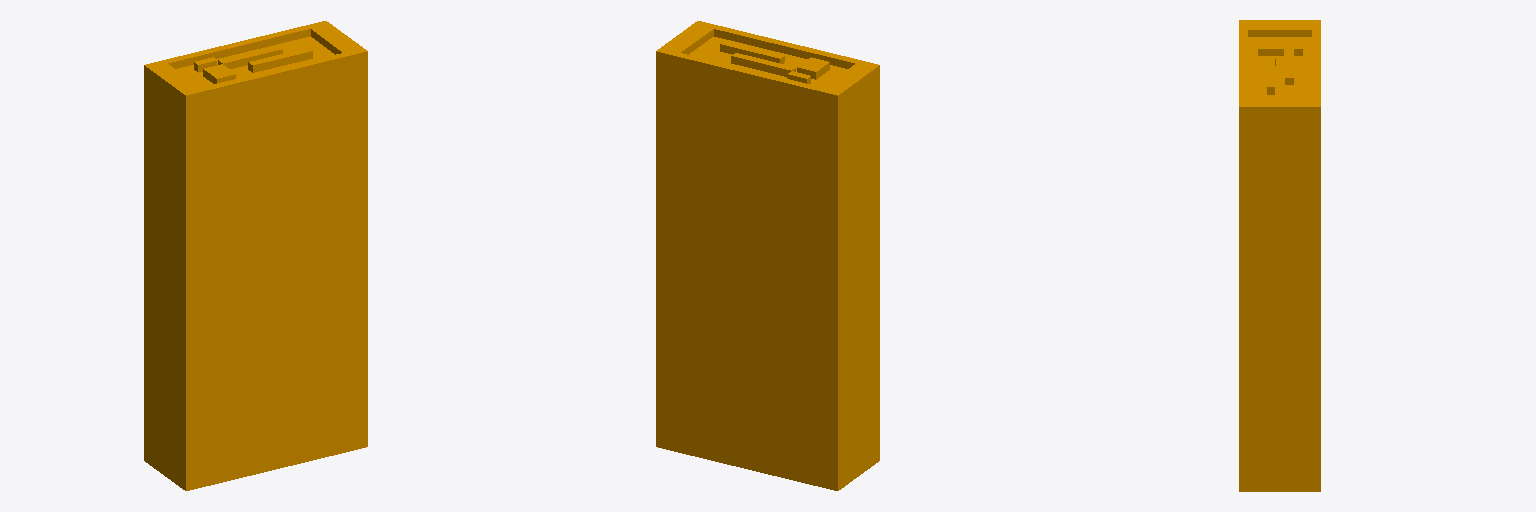
URDF robot description (40x40_Square):
<?xml version="1.0" ?>
<robot name="40x40_Square">

    <link name="40x40_Square">
        <visual>
            <origin rpy="1.5707963267948966 0 0" xyz="0 0 -0.0"/>
            <geometry>
                <mesh filename="Shapes/40x40_square.obj" scale="1.265 1 0.506"/>
            </geometry>
        </visual>
        <collision>
            <origin rpy="1.5707963267948966 0 0" xyz="0 0 -0.0"/>
            <geometry>
                <mesh filename="Shapes/40x40_square.obj" scale="1.265 1 0.506"/>
            </geometry>
        </collision>
        <inertial>
            <mass value="0.3"/>
            <inertia ixx="0.000029435425" ixy="0.0" ixz="0.0" iyy="0.000029435425" iyz="0.0" izz="0.00000725805"/>
        </inertial>
    </link>

</robot>

--- What the picture shows (computed from the rendered views, not written in the file) ---
3 views of the same robot in one strip: view 1: azimuth 30°, elevation 25°; view 2: azimuth 150°, elevation 25°; view 3: azimuth 270°, elevation 25° (orthographic).
Robot: 40x40_Square — 1 links, 0 joints (none); root link 40x40_Square; default pose: all joints at 0.
Visible links, largest first — view 1: 40x40_Square; view 2: 40x40_Square; view 3: 40x40_Square.
Link boxes in pixels (x1,y1,x2,y2): 40x40_Square: [144, 21, 367, 490]; 40x40_Square: [656, 21, 879, 490]; 40x40_Square: [1239, 20, 1320, 491].
Bounding box of the posed robot: 0.0506 × 0.0202 × 0.105 m (x, y, z).
1 mesh visuals loaded from 1 distinct referenced files (1 OBJ).
